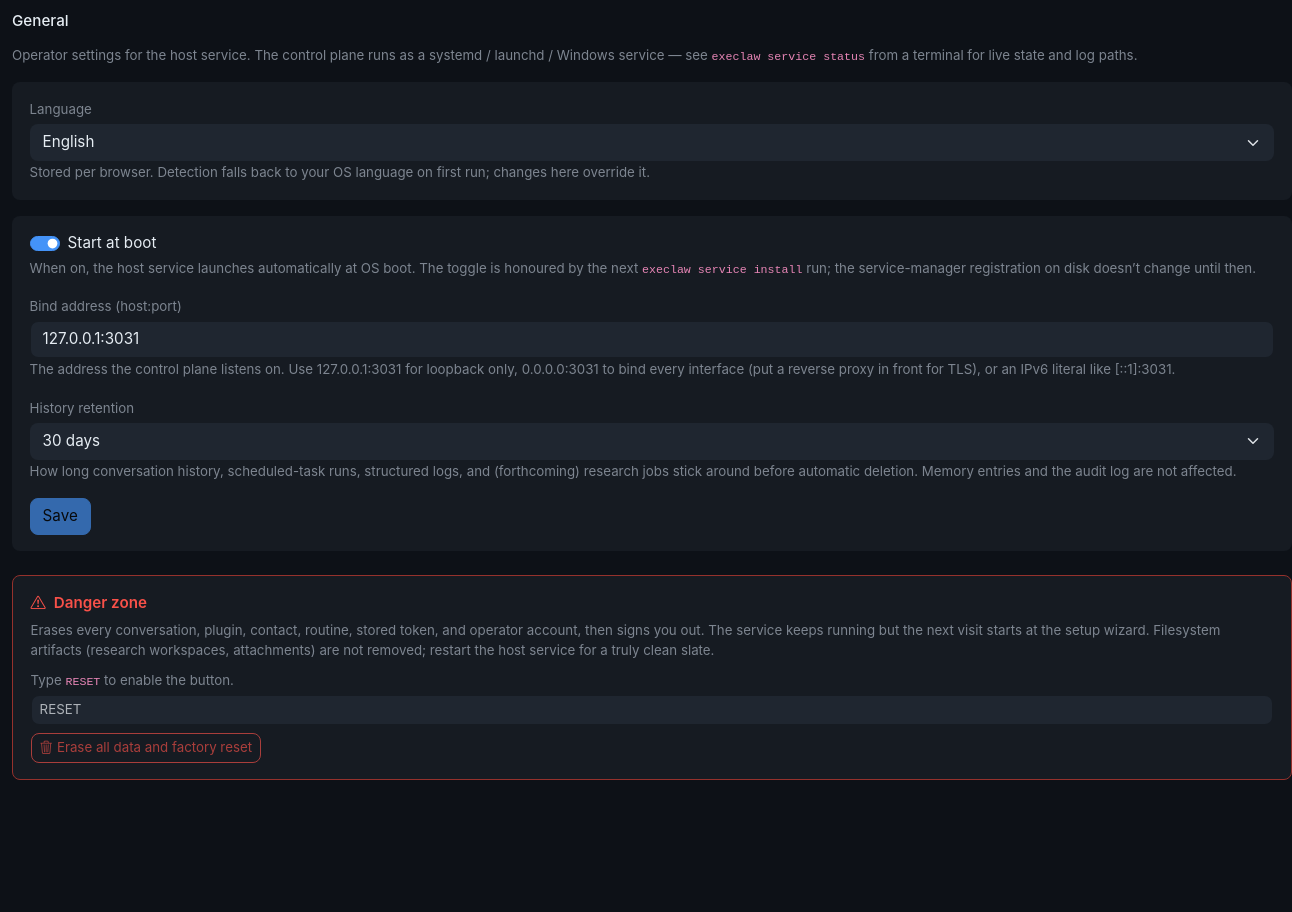
Scenario: GeneralPage › disables Save until a field changes
This screenshot has width=1292, height=912.
Expected: the button with test id "general-save" is disabled, [30,498,91,535]
Note: Toggle start_on_boot.
What coordinates should you click on to do the following:
click the checkbox with test id "general-start-on-boot"
I would click on:
 (45, 243)
Its box is [30,236,60,251].
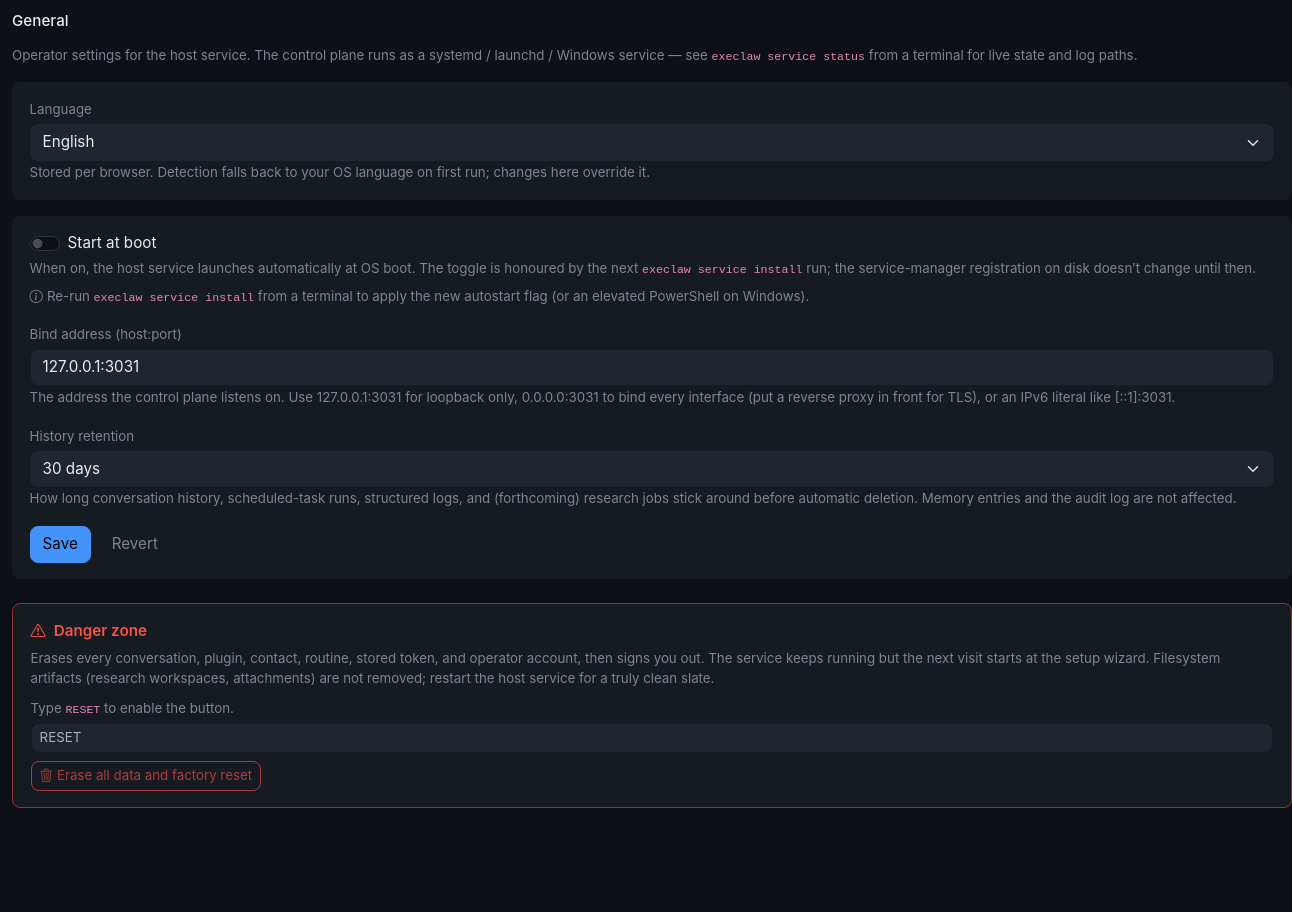
Expected: the button with test id "general-save" is enabled, [30,526,91,563]
